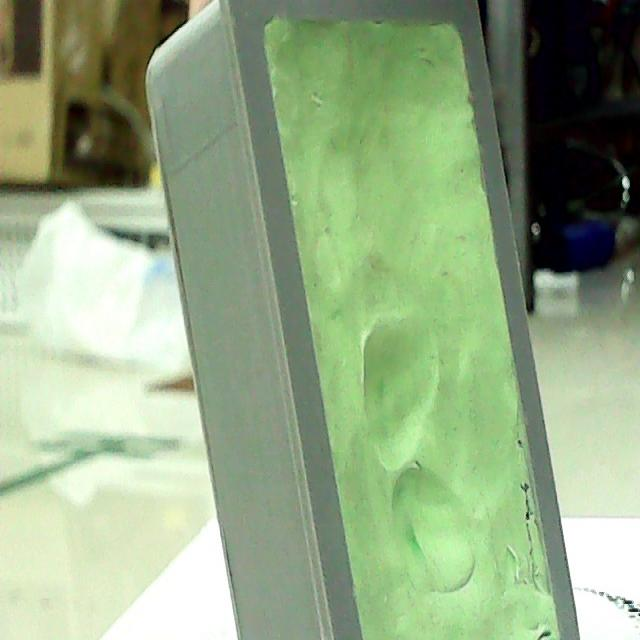block: (145, 0, 583, 640)
